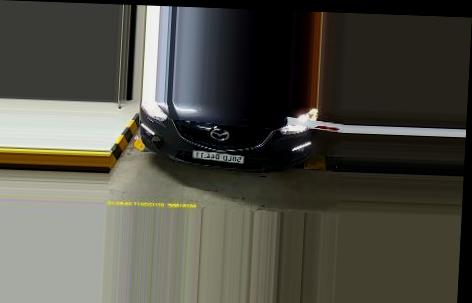License_Plate: (187, 149, 246, 164)
